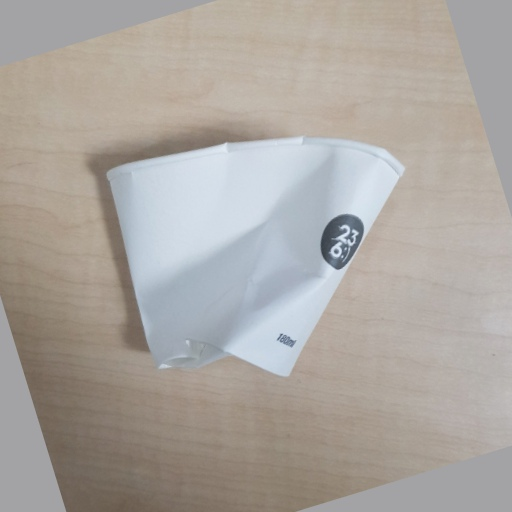Paper_1: (104, 135, 404, 384)
